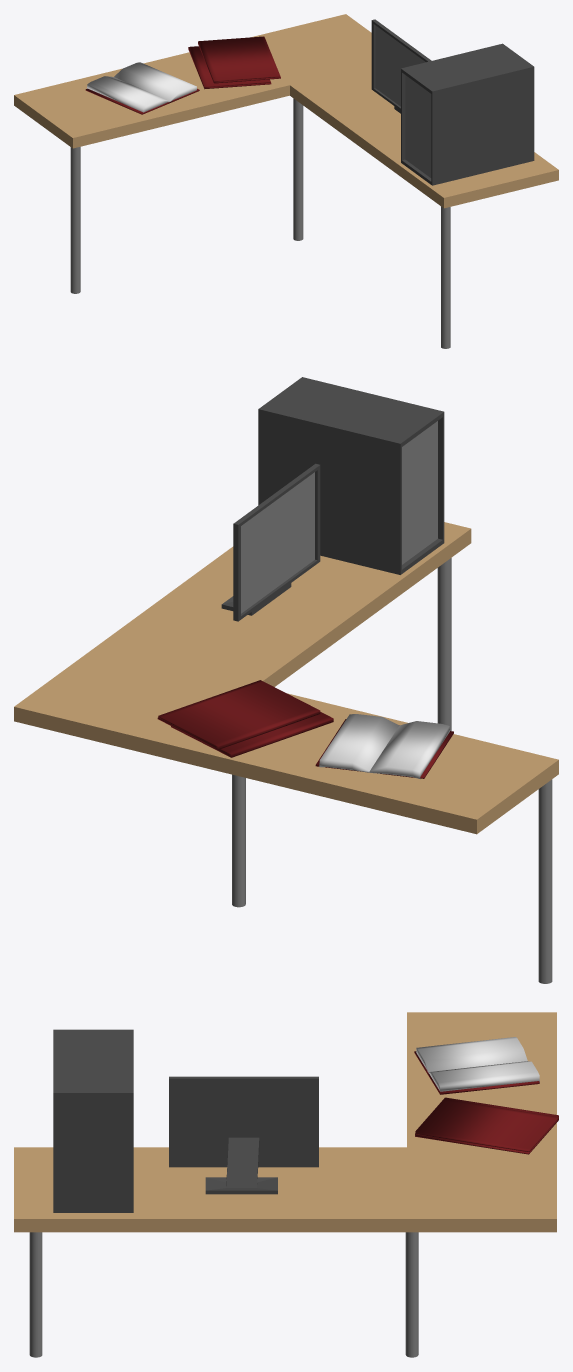
File: Bedroom_Bureau_GGJ.fbx
3 renders of one model, top to bottom at view 1: azimuth 30°, elevation 25°; view 2: azimuth 150°, elevation 25°; view 3: azimuth 270°, elevation 25°, orthographic. The views are drawn at different scales.
Parts seen in each view (by area): view 1: Cube.009; view 2: Cube.009; view 3: Cube.009.
Boxes of the visible parts, x1,y1,x2,y2 form: Cube.009: (14, 14, 558, 348); Cube.009: (14, 377, 558, 983); Cube.009: (14, 1012, 558, 1357).
Size of the model in its own units: 651 by 472 by 726.
